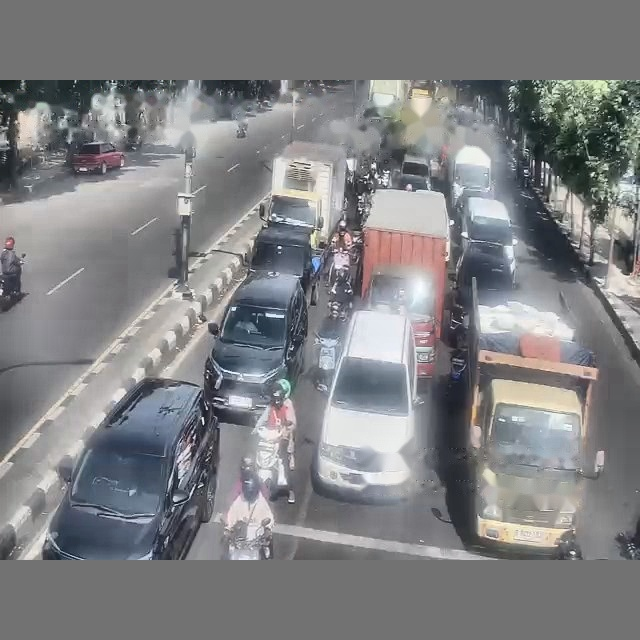Mobil: (42, 378, 219, 559), (312, 310, 421, 497), (204, 273, 307, 416), (249, 224, 317, 305), (460, 197, 517, 287), (454, 244, 514, 310), (71, 142, 124, 174), (393, 154, 430, 190), (618, 173, 637, 209)
Motor: (253, 424, 289, 500), (314, 302, 343, 391), (225, 518, 272, 559), (555, 529, 583, 559), (0, 275, 22, 311), (615, 532, 639, 559), (236, 123, 247, 138)
Truk: (467, 279, 604, 552), (361, 189, 450, 379), (259, 141, 346, 249)
